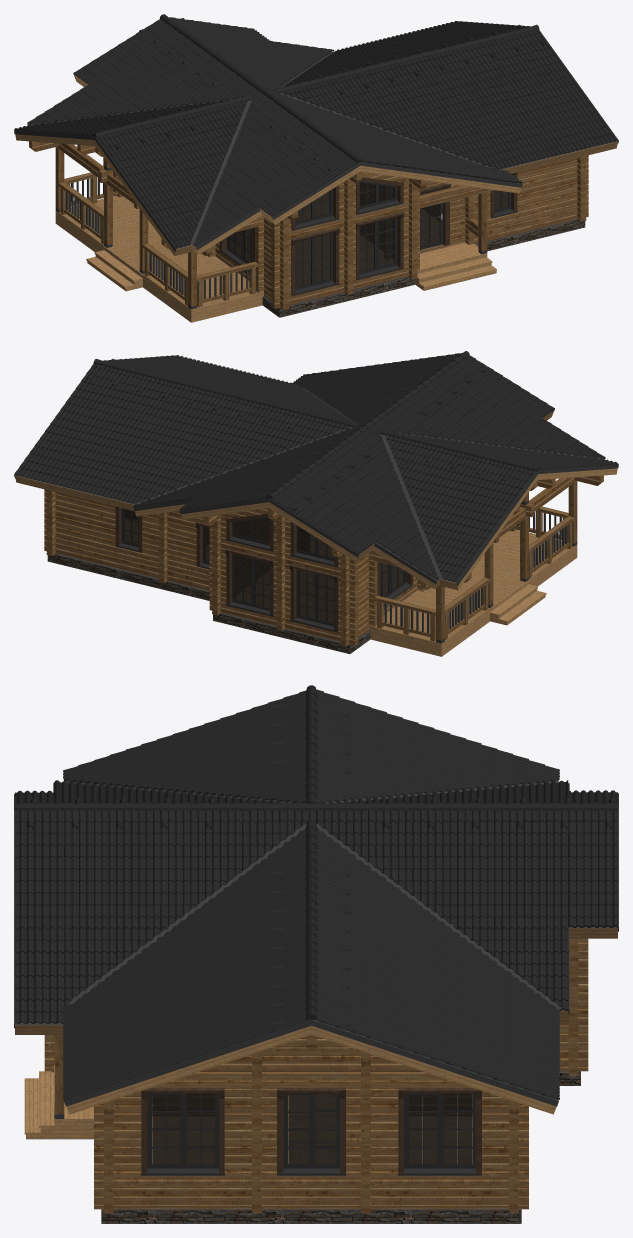
Rendered from house-mobile.glb.
The picture shows the model from 3 angles, top to bottom: view 1: azimuth 30°, elevation 25°; view 2: azimuth 150°, elevation 25°; view 3: azimuth 270°, elevation 25°; orthographic projection. The views are drawn at different scales.
Parts seen in each view (by area): view 1: Material58 (×45), Material12 (×7), Material14, Material19, Material23, Material54, Material15, Material22, Material60, Material13, Material6, Material7 (+2 smaller); view 2: Material58 (×44), Material12 (×6), Material14, Material19, Material23, Material54, Material15, Material22, Material13, Material7, Material60, Material6 (+2 smaller); view 3: Material58 (×44), Material12 (×5), Material23, Material14, Material6, Material7, Material13, Material60, Material22, Material15, Material11, Material5 (+1 smaller).
Boxes of the visible parts, x1=… form: Material58 (×45): x1=14, y1=14, x2=618, y2=248; Material12 (×7): x1=29, y1=141, x2=588, y2=310; Material14: x1=15, y1=74, x2=617, y2=322; Material19: x1=55, y1=147, x2=487, y2=307; Material23: x1=228, y1=182, x2=508, y2=287; Material54: x1=59, y1=195, x2=257, y2=309; Material15: x1=28, y1=51, x2=617, y2=299; Material22: x1=219, y1=172, x2=517, y2=294; Material60: x1=14, y1=23, x2=618, y2=251; Material13: x1=226, y1=181, x2=511, y2=289; Material6: x1=230, y1=191, x2=507, y2=286; Material7: x1=113, y1=189, x2=585, y2=317; Material58 (×44): x1=14, y1=351, x2=618, y2=582; Material12 (×6): x1=44, y1=475, x2=603, y2=646; Material14: x1=15, y1=410, x2=617, y2=656; Material19: x1=374, y1=481, x2=577, y2=641; Material23: x1=124, y1=509, x2=404, y2=623; Material54: x1=375, y1=529, x2=573, y2=642; Material15: x1=15, y1=387, x2=604, y2=633; Material22: x1=115, y1=506, x2=413, y2=630; Material13: x1=121, y1=508, x2=406, y2=626; Material7: x1=47, y1=523, x2=519, y2=653; Material60: x1=14, y1=385, x2=618, y2=585; Material6: x1=125, y1=520, x2=402, y2=622; Material58 (×44): x1=14, y1=685, x2=617, y2=1100; Material12 (×5): x1=44, y1=938, x2=588, y2=1213; Material23: x1=152, y1=1094, x2=471, y2=1165; Material14: x1=15, y1=928, x2=617, y2=1138; Material6: x1=152, y1=1094, x2=472, y2=1164; Material7: x1=101, y1=1072, x2=580, y2=1223; Material13: x1=147, y1=1094, x2=475, y2=1167; Material60: x1=14, y1=693, x2=618, y2=1106; Material22: x1=141, y1=1069, x2=481, y2=1173; Material15: x1=15, y1=780, x2=617, y2=1100; Material11: x1=141, y1=1168, x2=481, y2=1175; Material5: x1=52, y1=1071, x2=580, y2=1210.
Size of the model in its own units: 15.84 by 5.18 by 12.24.
21 materials, 11 textured.
